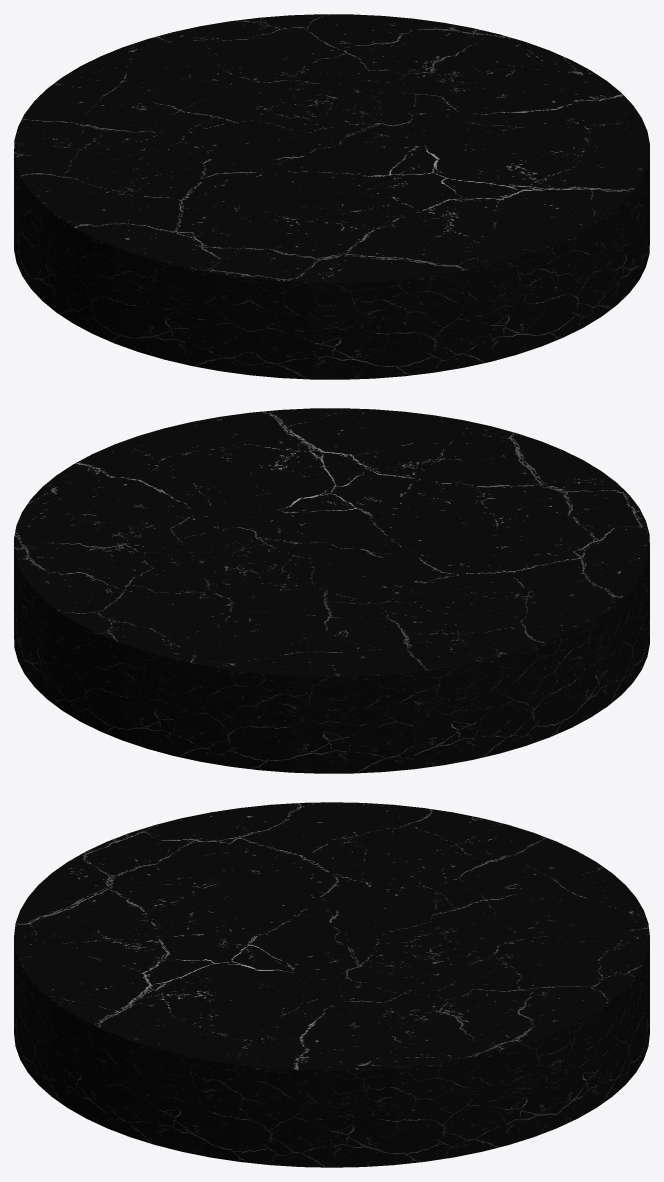
File: cylinder_black1.dae
The picture shows the model from 3 angles, top to bottom: view 1: azimuth 30°, elevation 25°; view 2: azimuth 150°, elevation 25°; view 3: azimuth 270°, elevation 25°; orthographic projection.
Visible parts, largest first — view 1: Draw; view 2: Draw; view 3: Draw.
Part boxes in pixels (bbox=[...]): Draw: bbox=[14, 14, 649, 379]; Draw: bbox=[14, 408, 649, 773]; Draw: bbox=[14, 802, 649, 1167].
Size of what is drawn, in the model's own units: 5.96 by 5.96 by 1.
